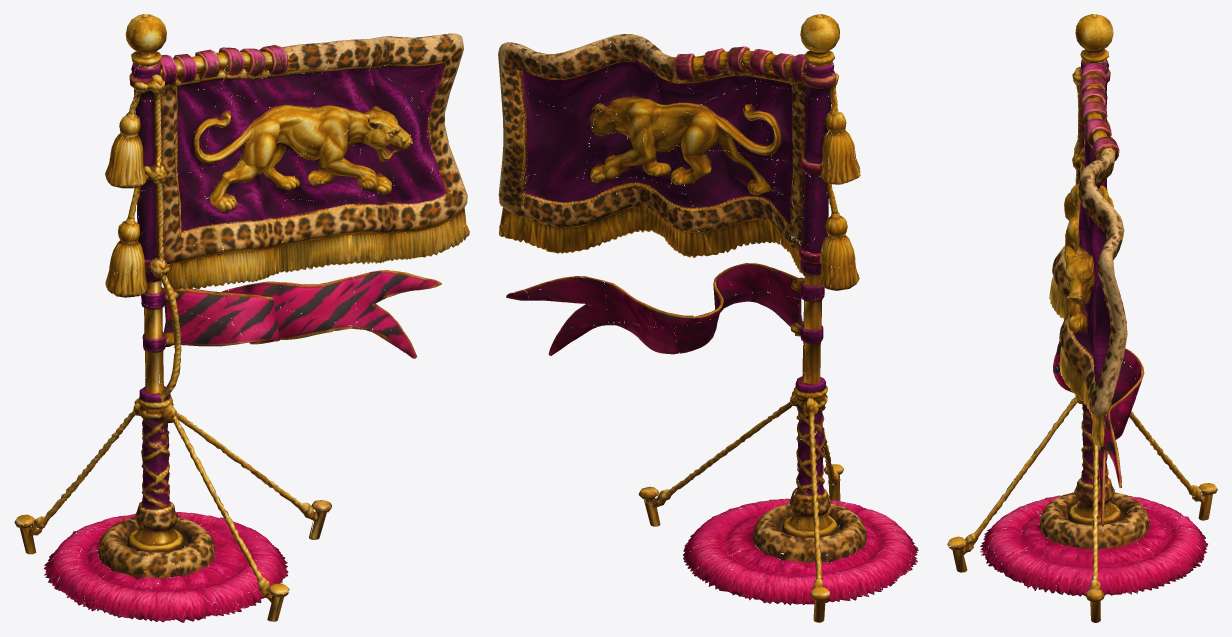
Rendered from flag.glb.
3 renders of one model, left to right at view 1: azimuth 30°, elevation 25°; view 2: azimuth 150°, elevation 25°; view 3: azimuth 270°, elevation 25°, orthographic. The views are drawn at different scales.
Parts seen in each view (by area): view 1: tripo_node_56dc291e-3562-4b86-8a9f-829aebed9e7a; view 2: tripo_node_56dc291e-3562-4b86-8a9f-829aebed9e7a; view 3: tripo_node_56dc291e-3562-4b86-8a9f-829aebed9e7a.
Boxes of the visible parts, <box> form: tripo_node_56dc291e-3562-4b86-8a9f-829aebed9e7a: <box>14,14,469,622</box>; tripo_node_56dc291e-3562-4b86-8a9f-829aebed9e7a: <box>498,14,918,622</box>; tripo_node_56dc291e-3562-4b86-8a9f-829aebed9e7a: <box>947,14,1217,622</box>.
Bounding box in the file's own units: 0.758 × 1 × 0.4625.
1 material, 1 textured.
